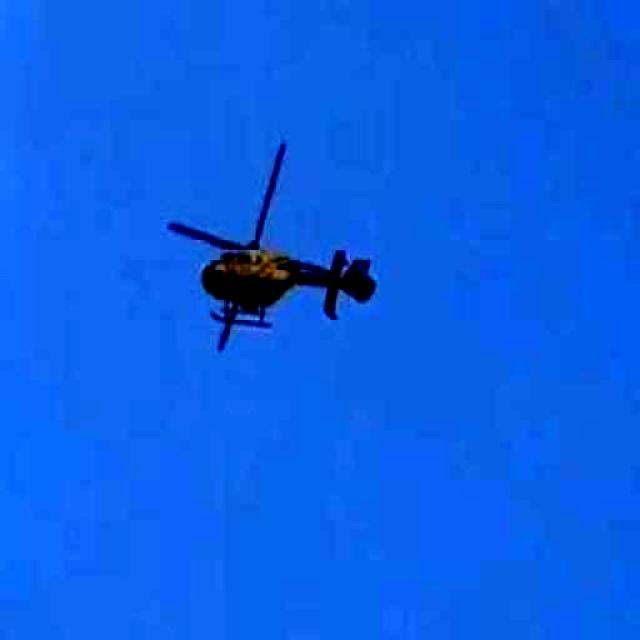drone: (129, 119, 409, 382)
